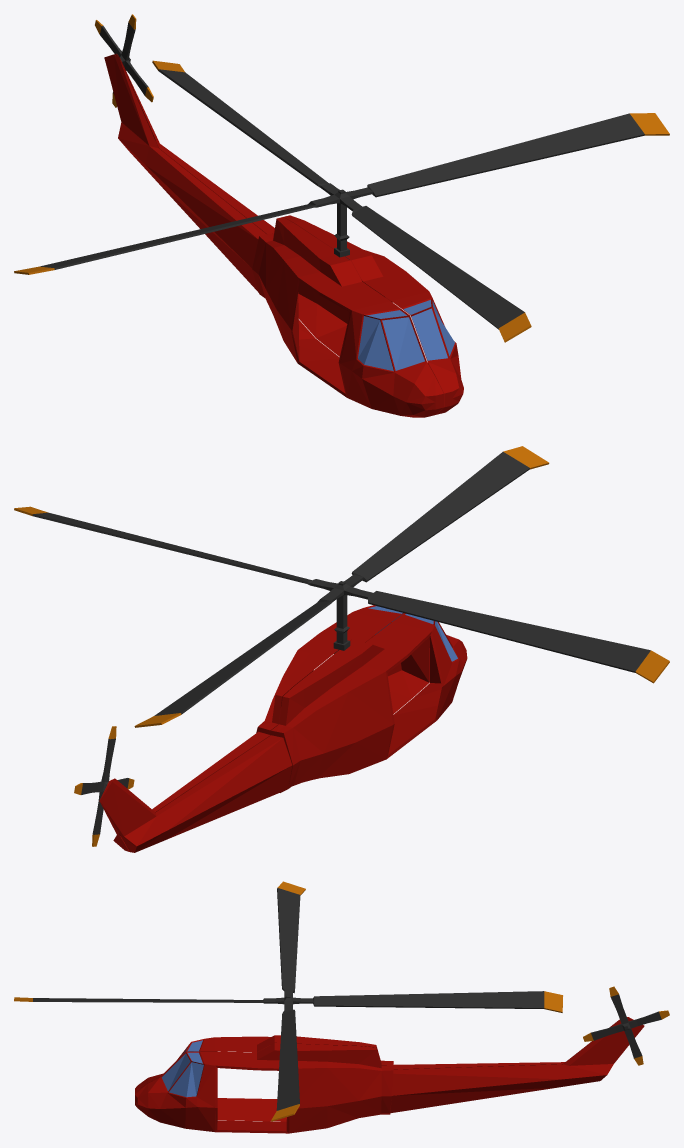
Rendered from enemyChopper1.dae.
3 views of the same model, one above another, from view 1: azimuth 30°, elevation 25°; view 2: azimuth 150°, elevation 25°; view 3: azimuth 270°, elevation 25° (orthographic). The views are drawn at different scales.
Parts seen in each view (by area): view 1: Chopper, Main Rotor, Tail Rotor; view 2: Chopper, Main Rotor, Tail Rotor; view 3: Chopper, Main Rotor, Tail Rotor.
Part boxes in pixels (<box>): Chopper: <box>104,53,463,417</box>; Main Rotor: <box>14,60,669,342</box>; Tail Rotor: <box>95,14,153,107</box>; Chopper: <box>99,605,467,852</box>; Main Rotor: <box>14,446,669,727</box>; Tail Rotor: <box>74,726,134,846</box>; Chopper: <box>135,1017,644,1133</box>; Main Rotor: <box>14,881,562,1121</box>; Tail Rotor: <box>583,986,669,1065</box>.
Size of the model in its own units: 6.91 by 8.25 by 1.91.
